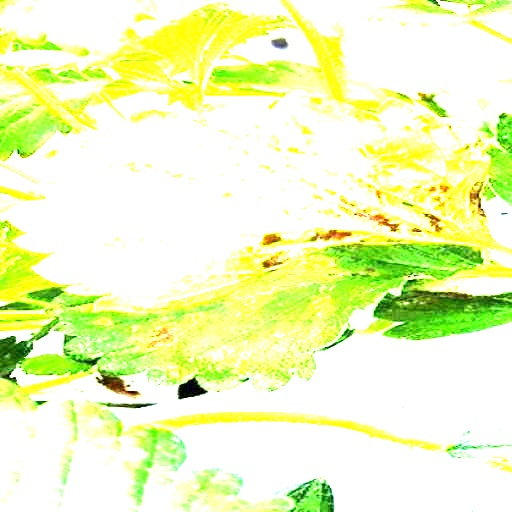Angular Leafspot: (1, 90, 497, 314), (40, 243, 488, 393)
